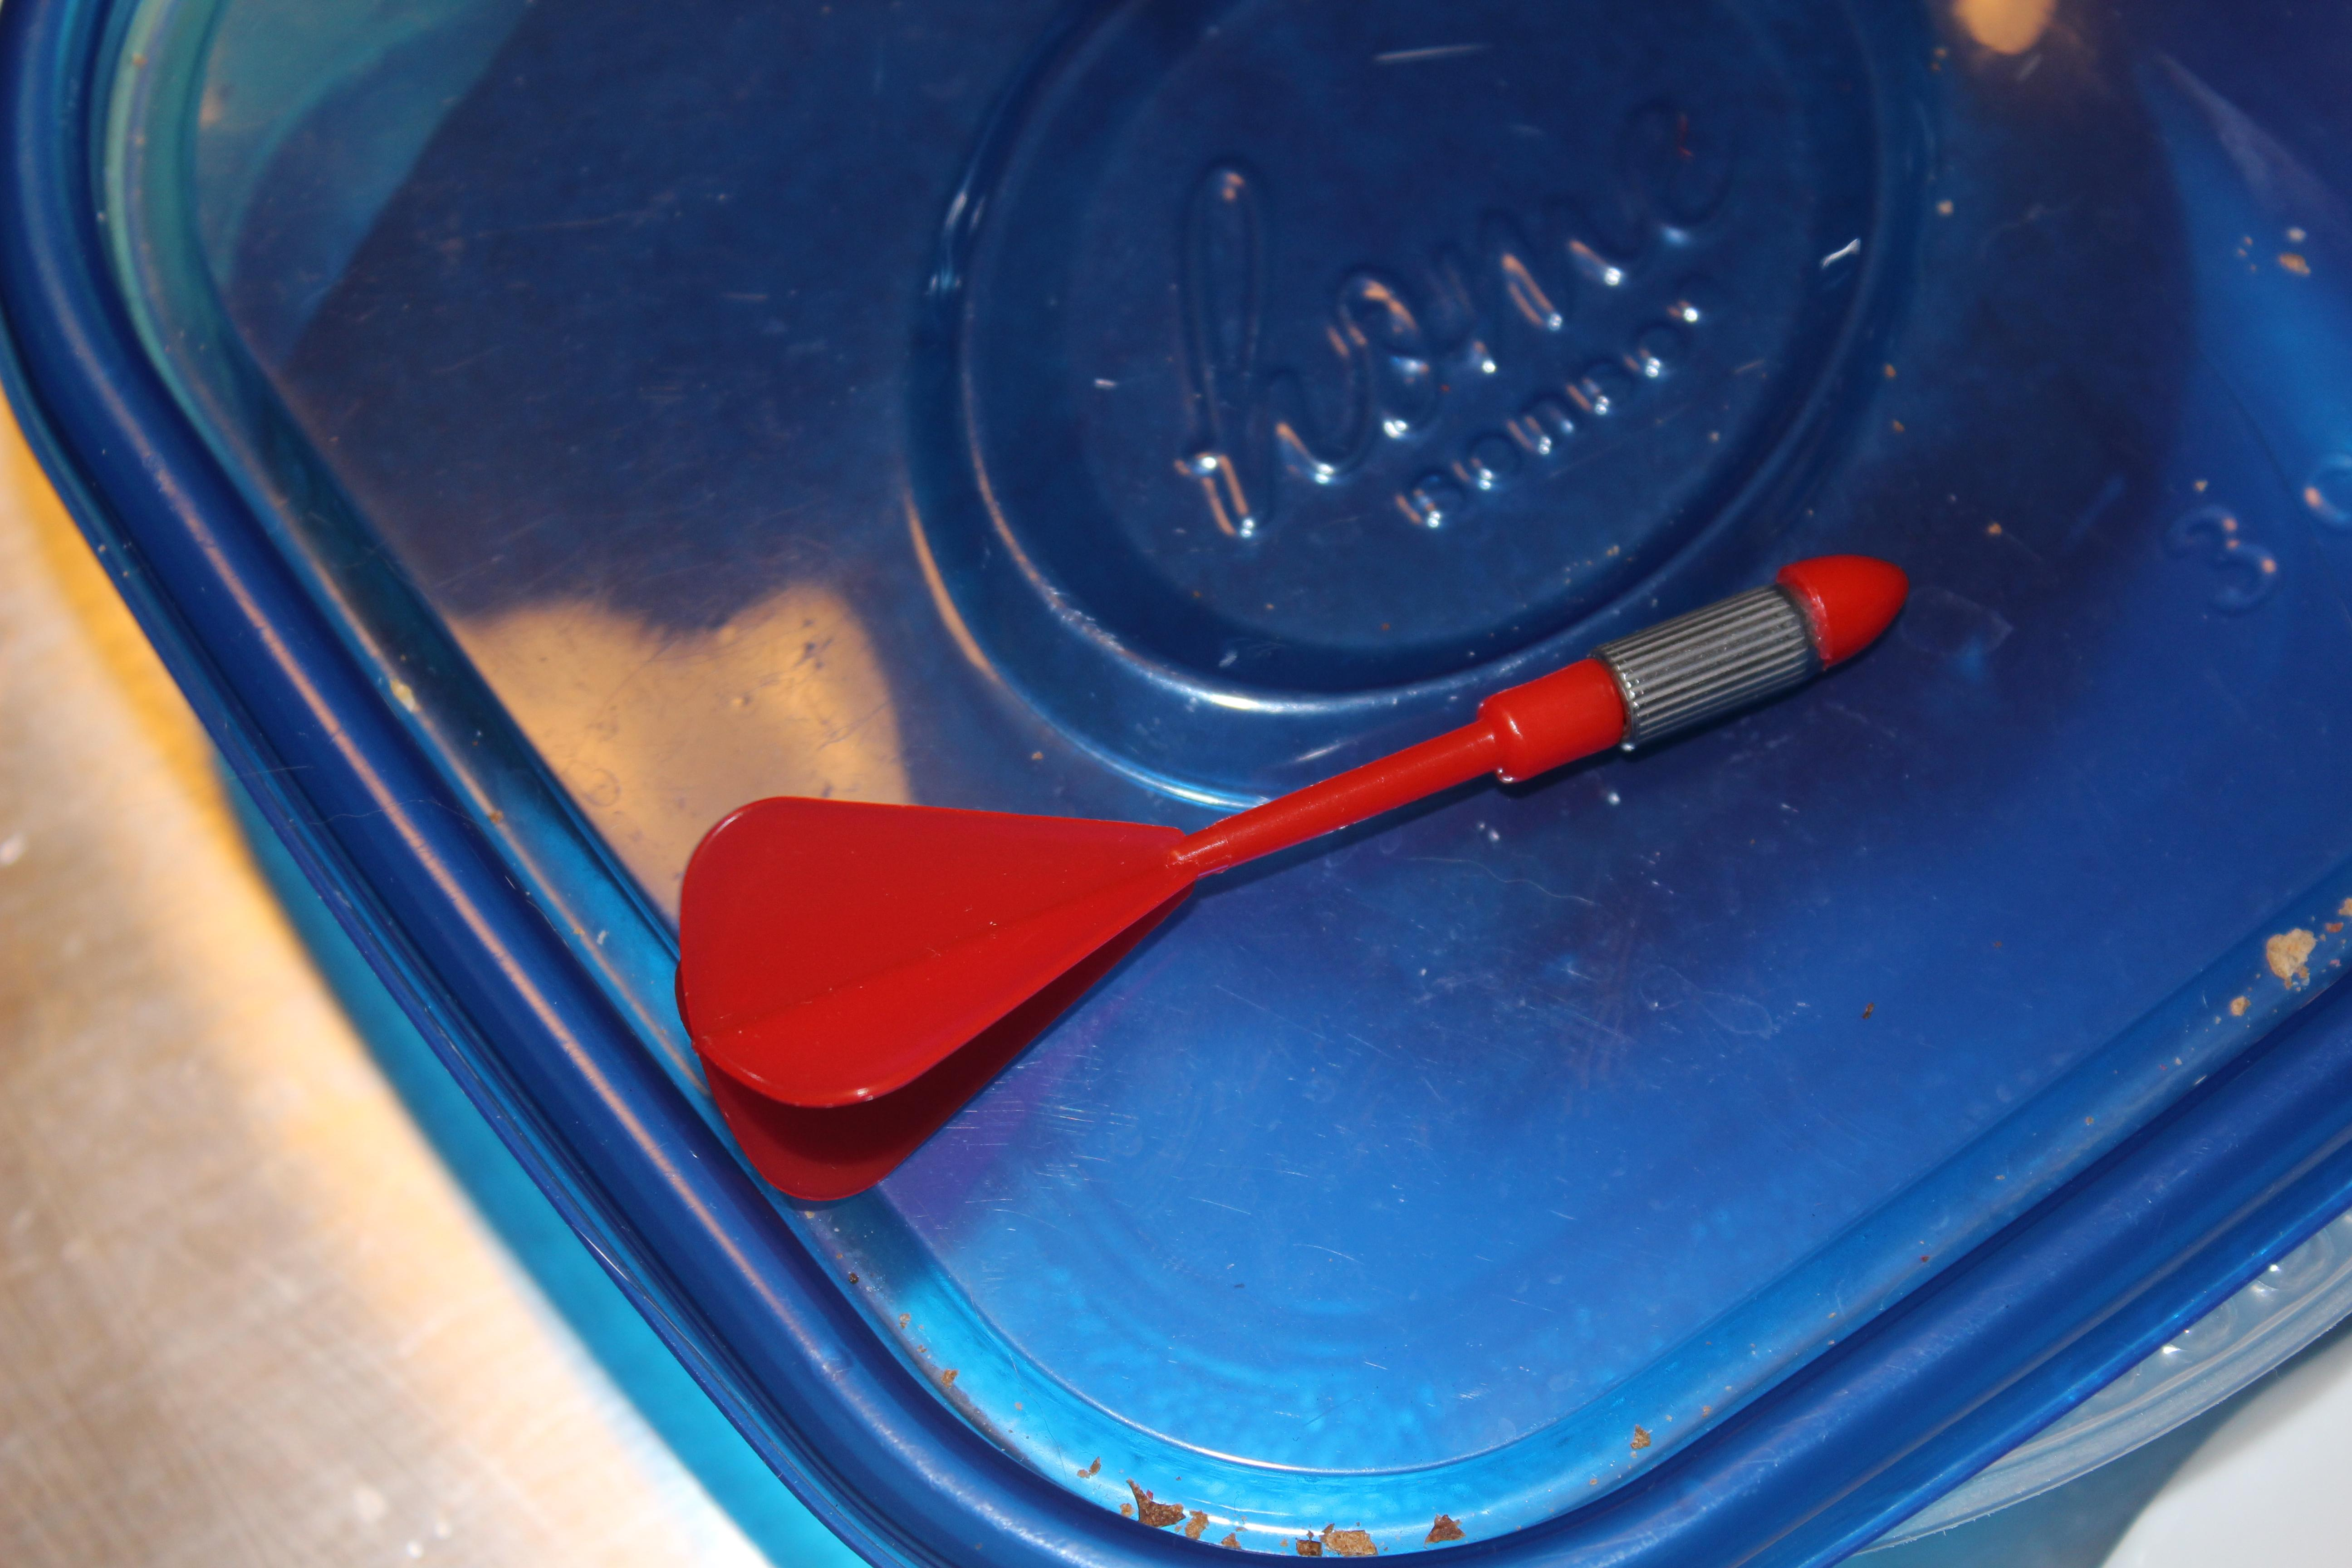redDart: (628, 518, 1965, 1232)
